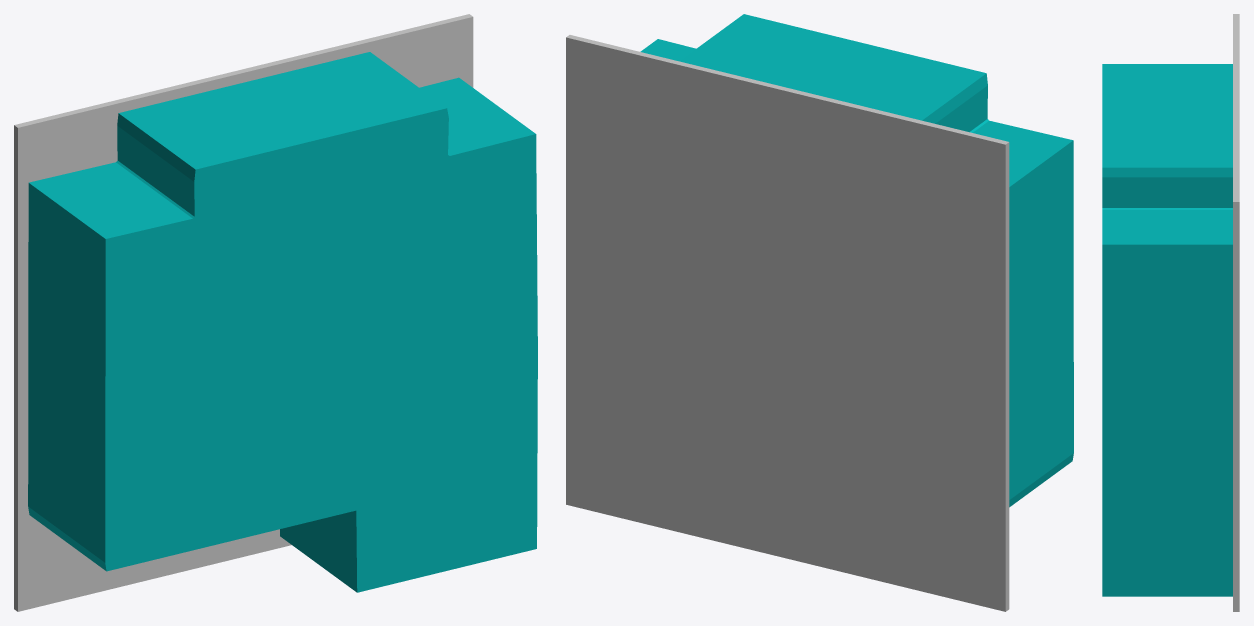
3 views of the same model, side by side, from view 1: azimuth 30°, elevation 25°; view 2: azimuth 150°, elevation 25°; view 3: azimuth 270°, elevation 25° (orthographic). The views are drawn at different scales.
Visible parts, largest first — view 1: world; view 2: world; view 3: world.
Part boxes in pixels (box(x1,y1,x2,y2)): world: box(14, 14, 537, 611); world: box(566, 14, 1073, 611); world: box(1102, 14, 1239, 611).
Bounding box in the file's own units: 10.23 × 10.39 × 3.15.
